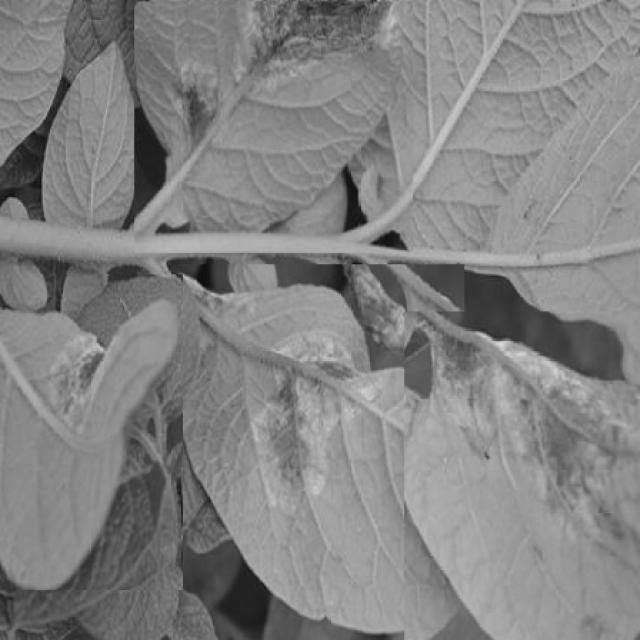Late Blight: (179, 264, 464, 640), (404, 311, 640, 640), (134, 1, 413, 253), (1, 274, 183, 590)
